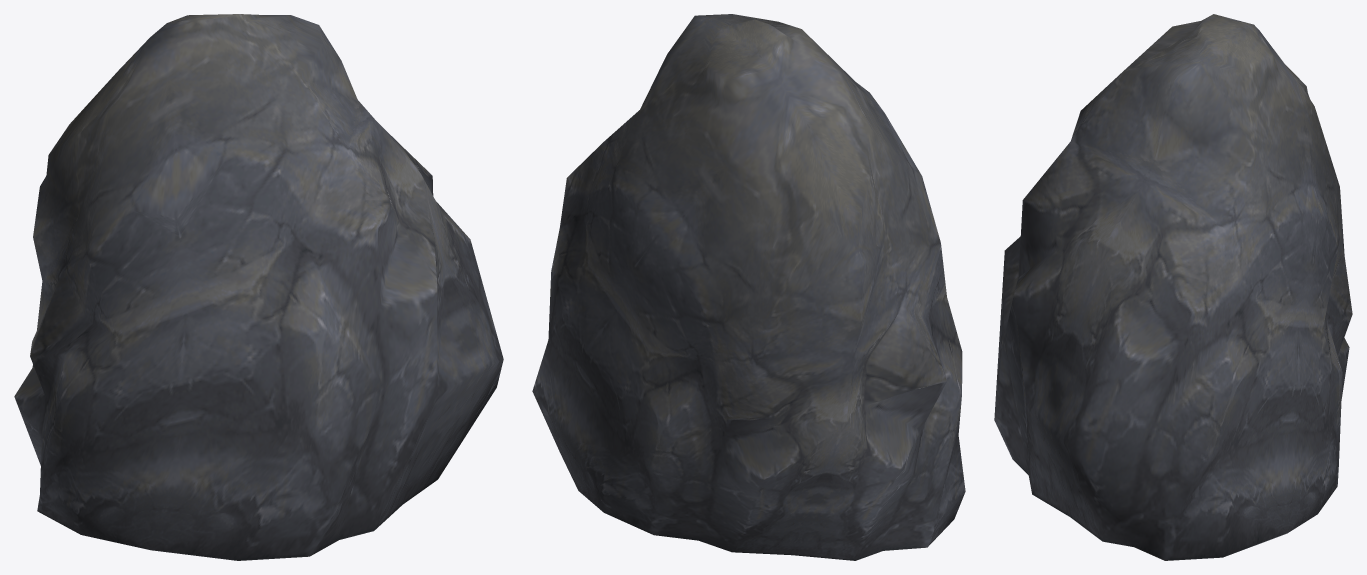
File: hbxz_wj011_04.FBX
3 views of the same model, side by side, from view 1: azimuth 30°, elevation 25°; view 2: azimuth 150°, elevation 25°; view 3: azimuth 270°, elevation 25° (orthographic). The views are drawn at different scales.
Visible parts, largest first — view 1: hbxz_wj011_04; view 2: hbxz_wj011_04; view 3: hbxz_wj011_04.
Part boxes in pixels (x1=…): hbxz_wj011_04: x1=14, y1=14, x2=503, y2=560; hbxz_wj011_04: x1=532, y1=14, x2=965, y2=560; hbxz_wj011_04: x1=994, y1=14, x2=1352, y2=560.
Size of the model in its own units: 252 by 272 by 199.
1 material, 1 textured.
